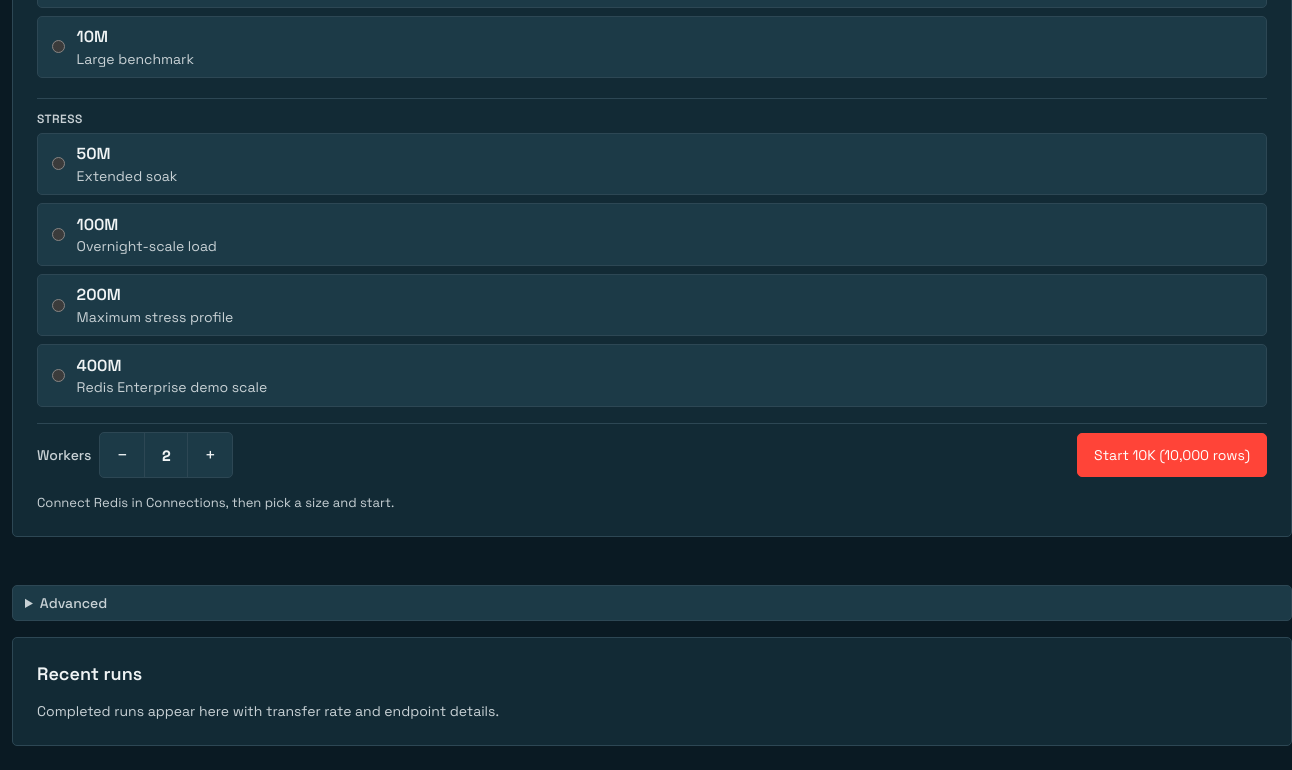
Scenario: IngestPanel page contract › running state swaps preset picker for progress and inline write rate
(page scrolled)
Click the button with test id "ingest-preset-start-btn": (1172, 455) [1077,433,1267,477]
(page scrolled)
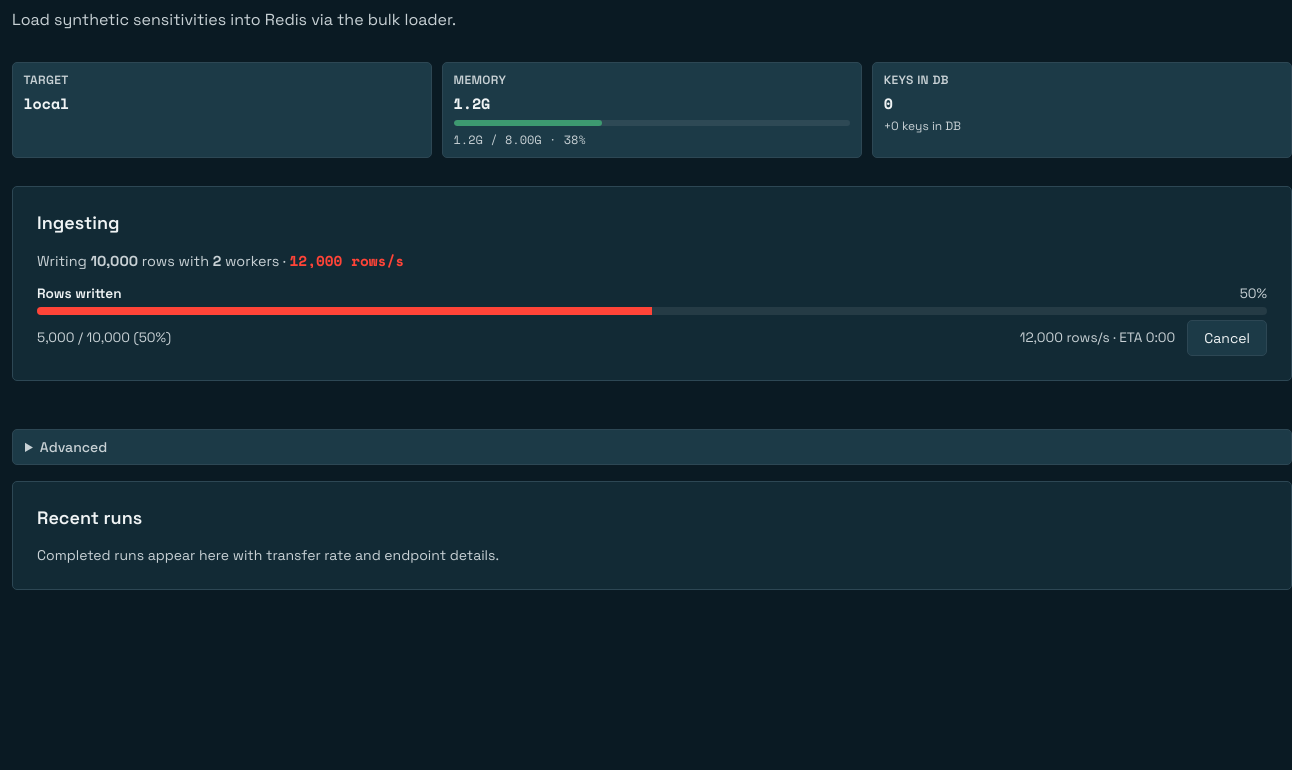
Now the element with test id "ingest-run-active" is shown, box [37,250,1267,356]
Now the text with test id "ingest-run-write-rate" shows "12,000", box [290,250,342,271]
Now the text with test id "phase-progress-ingest-text" shows "5,000", box [37,329,74,346]
